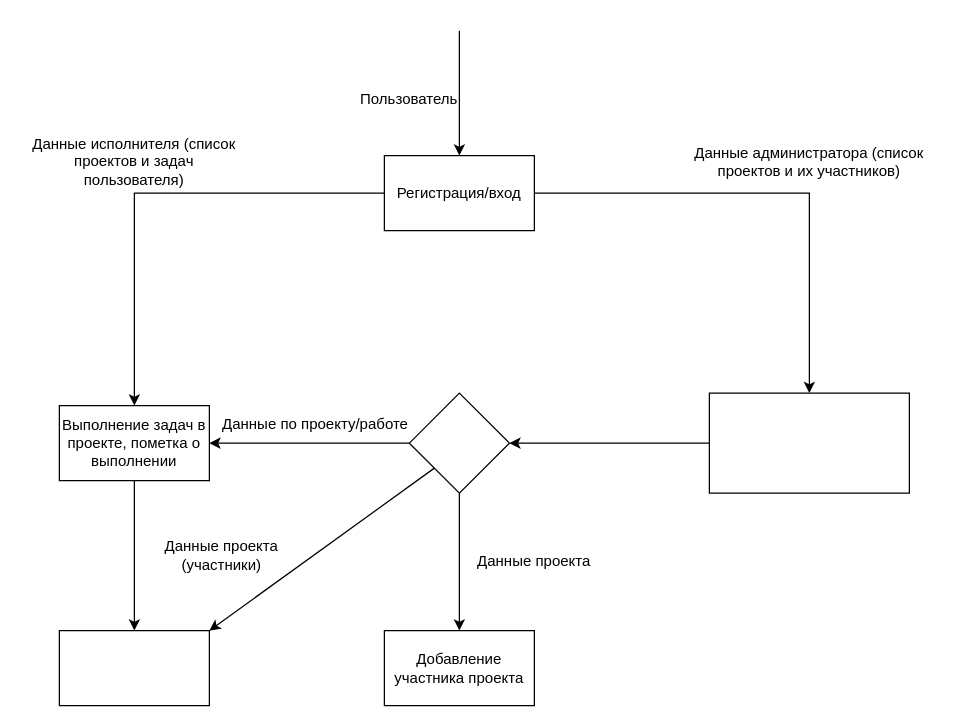
Image size: 955x728. Some labels were removed from this diagram. The box of each missing label's shape, as (x1, y1, x2, y2) in pixels:
Администрирование проекта, создание списка задач, назначение исполняющих лиц: (708, 392, 909, 493)
Связь участников проекта (чат): (58, 629, 209, 706)
